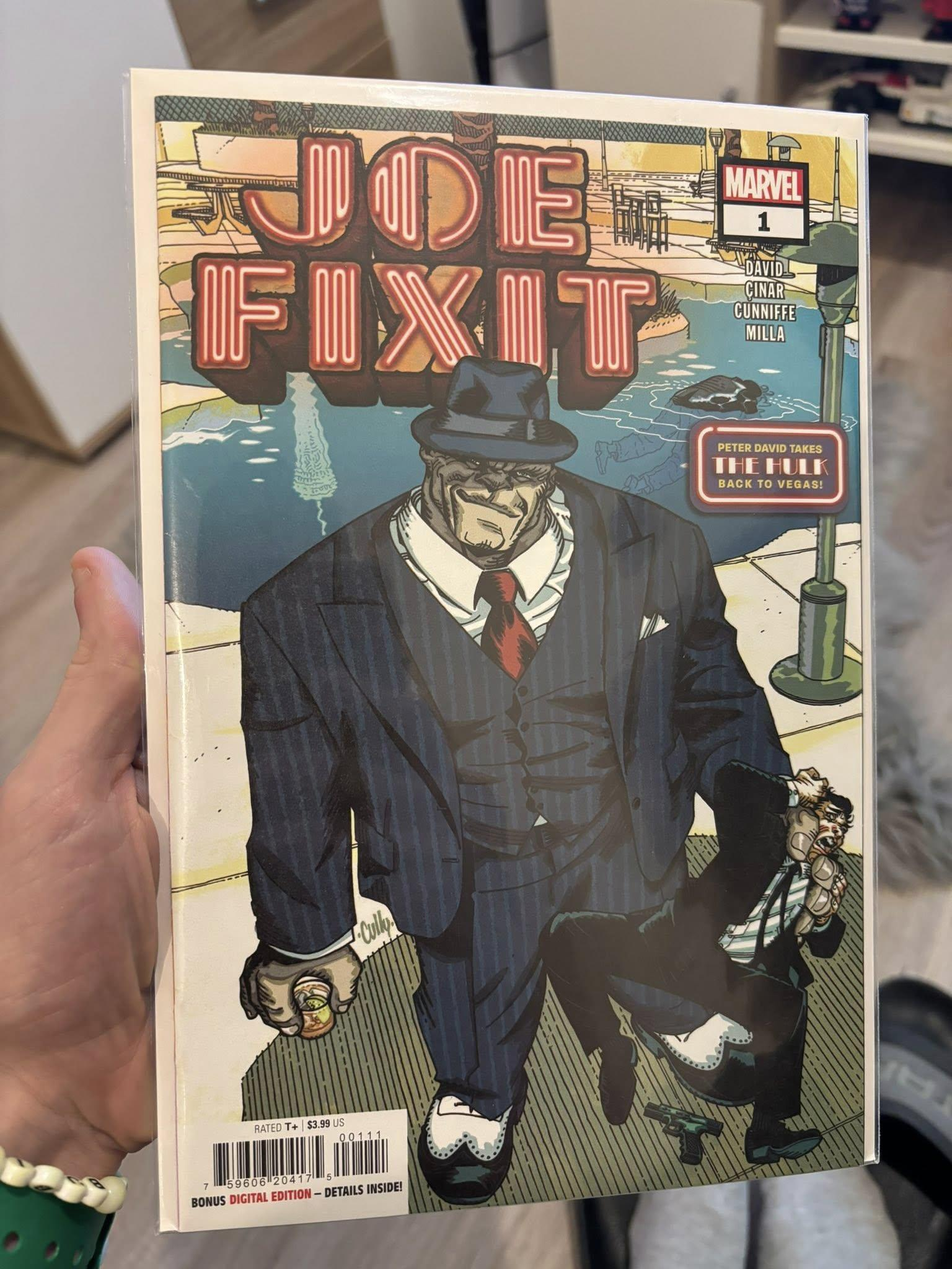comic: (130, 54, 890, 1230)
